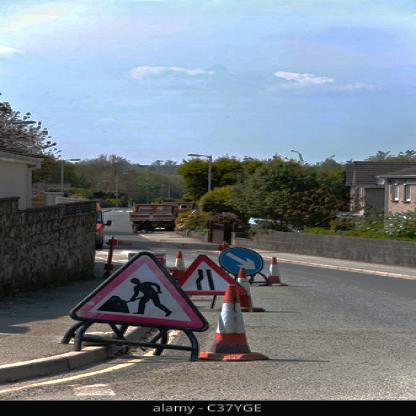Keep right: (223, 243, 272, 279)
